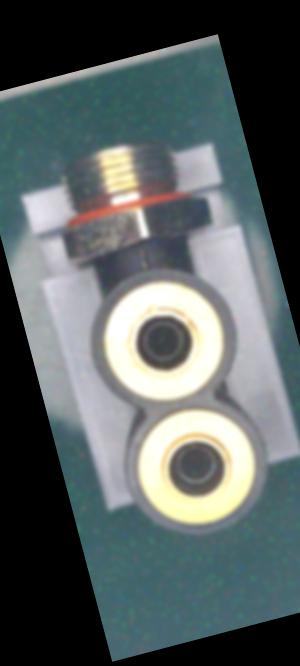craze: (134, 237, 152, 270)
